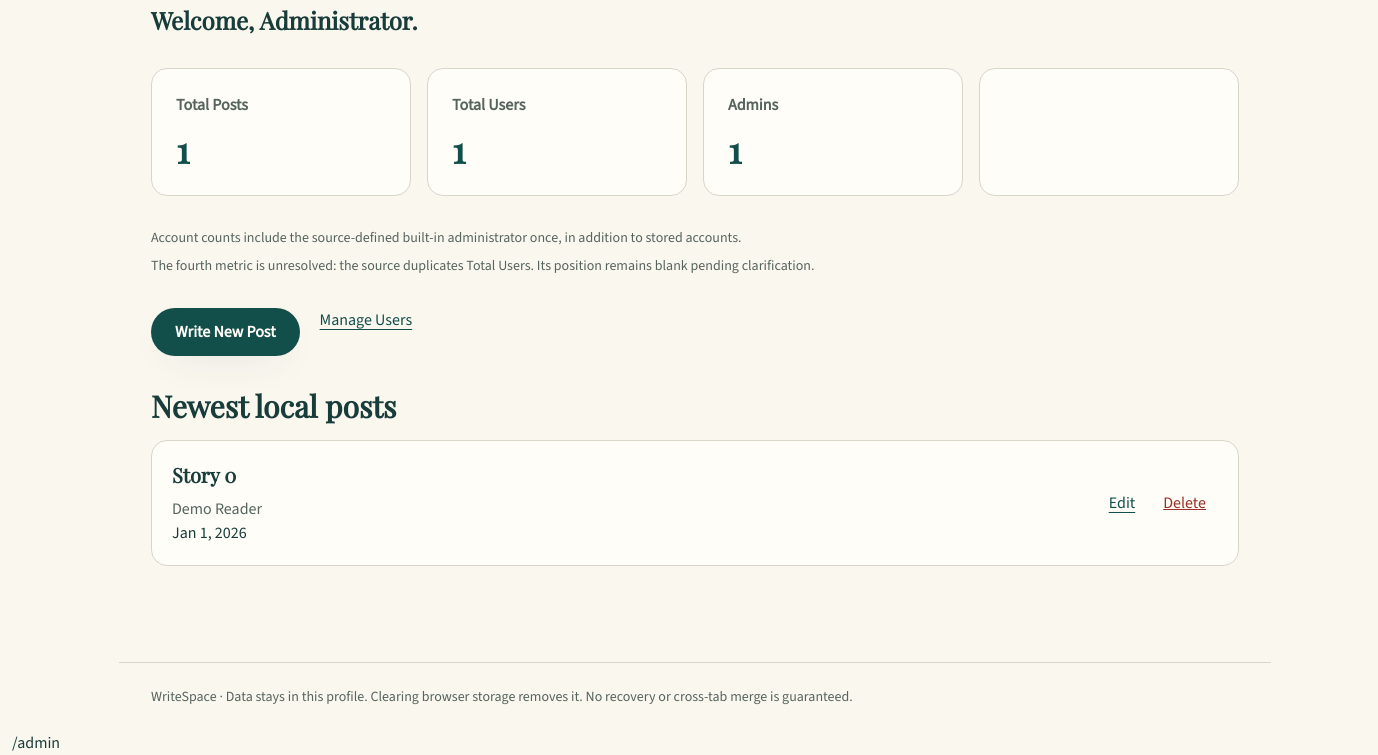
Test: real dashboard and routed controls › keeps inline post deletion unsaved on Error failure
(page scrolled)
Click the button with aria-label "Delete Story 0": (1185, 503) [1151, 481, 1218, 525]
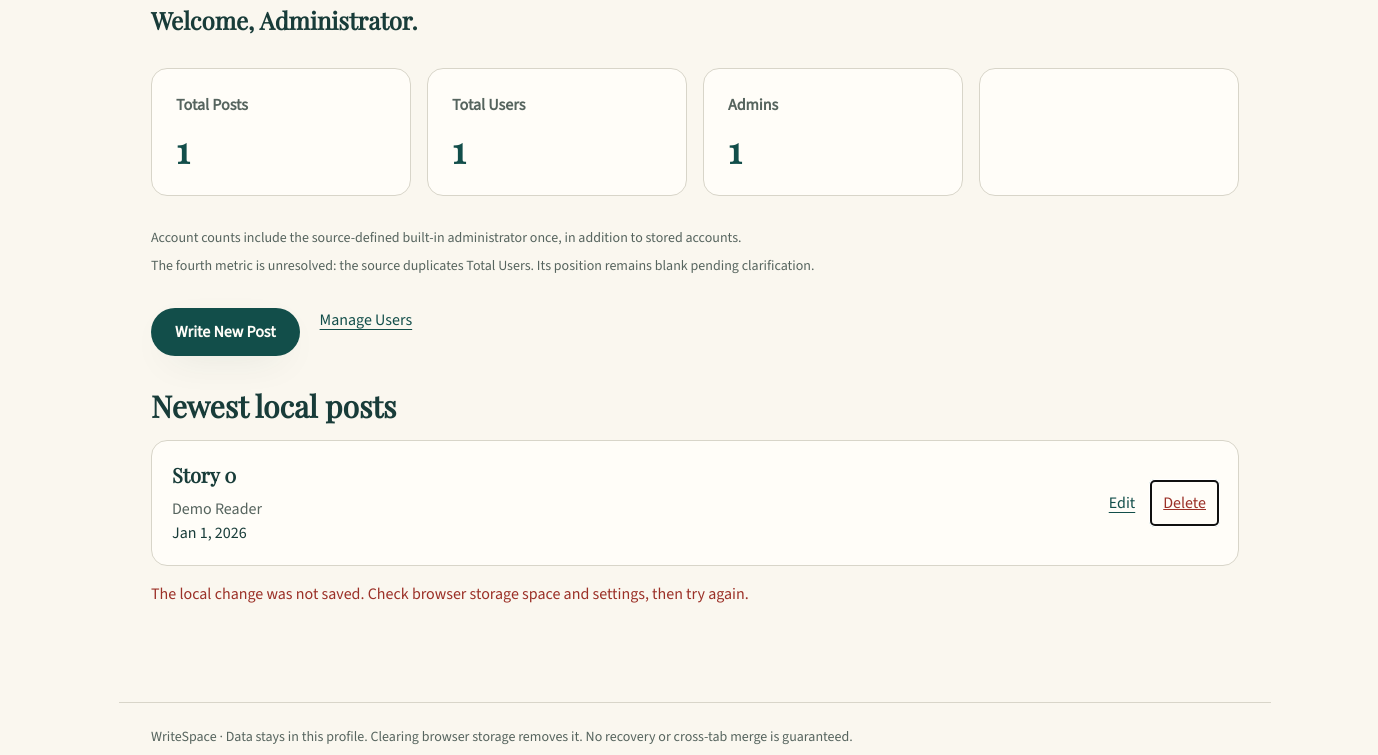
Expected: the heading "Story 0" is shown, [172, 461, 236, 488]
Expected: the message shows "not saved", [151, 583, 749, 604]
